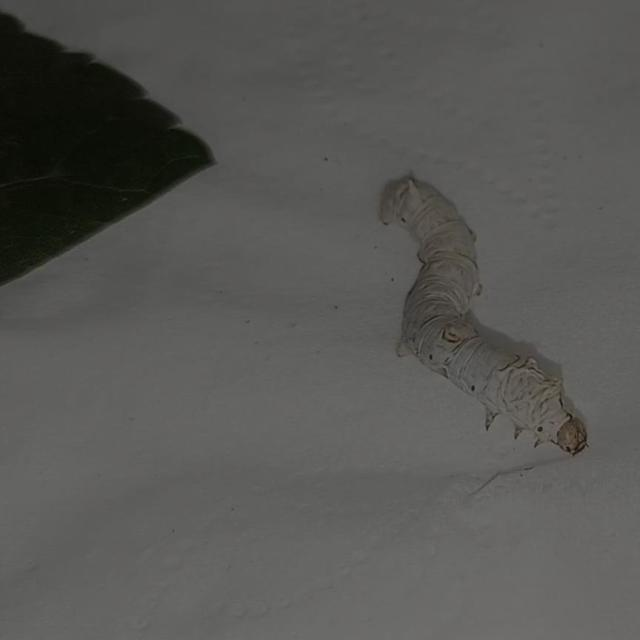Healthy: (350, 120, 637, 499)
